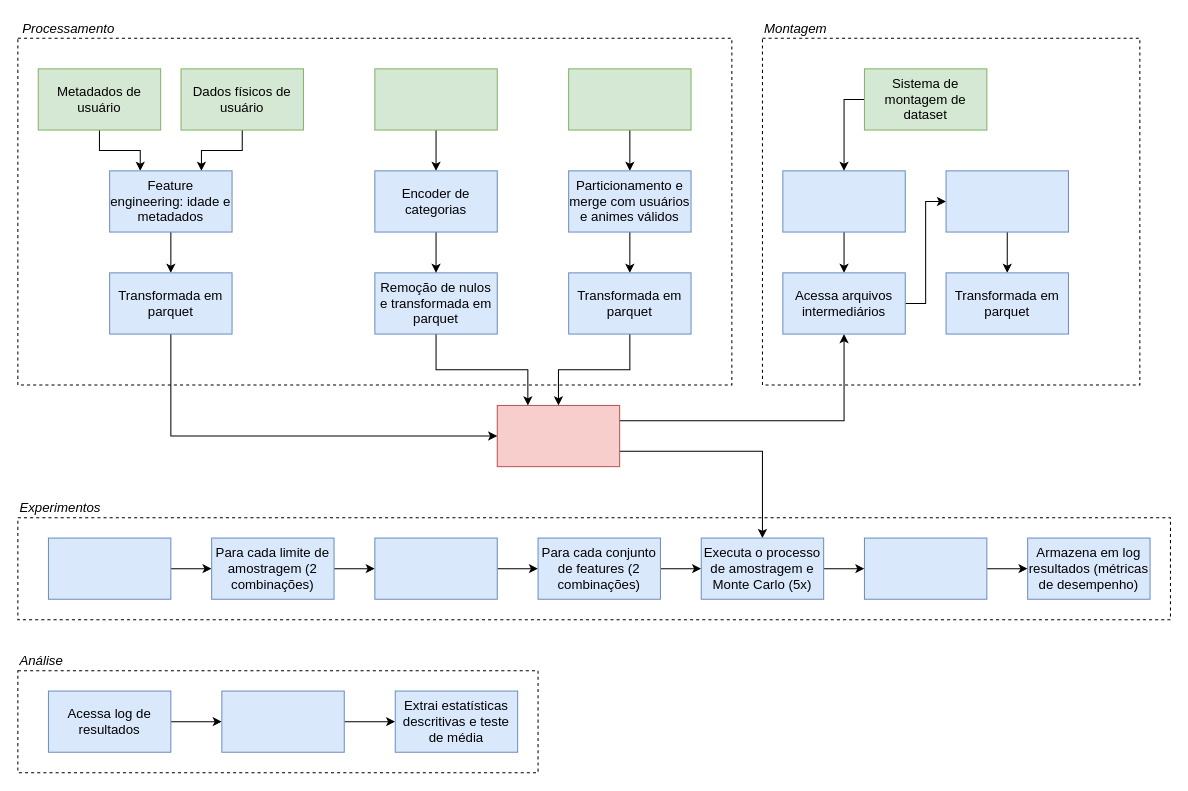
Image size: 1188x791. Some labels were removed from this diagram. Here are the shapes that lost their labels. From the top down, the box of each, then its label:
(374, 68, 497, 130): Dados de animes
(568, 68, 691, 130): Dados de scores de anime por usuário
(782, 170, 905, 232): Para cada corte e uso de features (6 combinações)
(945, 170, 1068, 232): Executa o merge e prepara os dados para treinamento
(496, 404, 620, 467): Armazenamento interno
(47, 537, 171, 599): Para cada modelo (2 combinações)
(374, 537, 497, 599): Para cada corte (3 combinações)
(863, 537, 987, 599): Treinamento da rede em minibatch
(221, 690, 344, 752): Define fatores e variáveis de comparação
